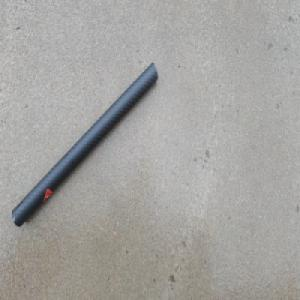LuggagePart: (10, 60, 158, 228)
